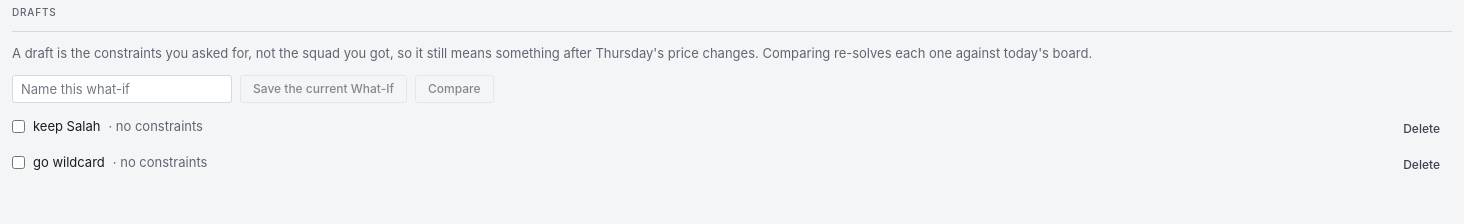
DraftsTab › saves the constraints the What-If tab is holding
Expected: the text "keep Salah" is shown, left=33, top=117, right=100, bottom=136
Type "third" into the field named "draft name" at (122, 89), box left=12, top=75, right=232, bottom=103
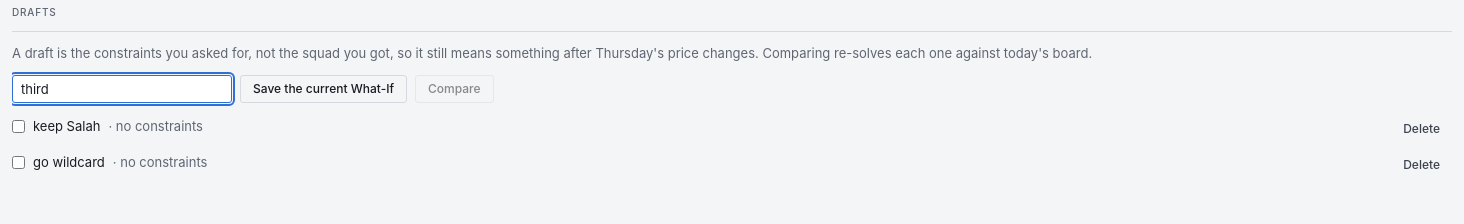
Click the button "Save the current What-If" at (324, 89), box left=240, top=75, right=407, bottom=103
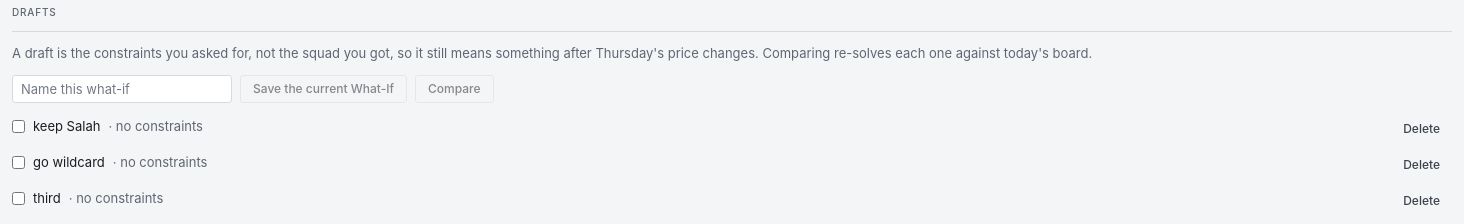
Now the text "third" is shown, box left=33, top=189, right=61, bottom=208
